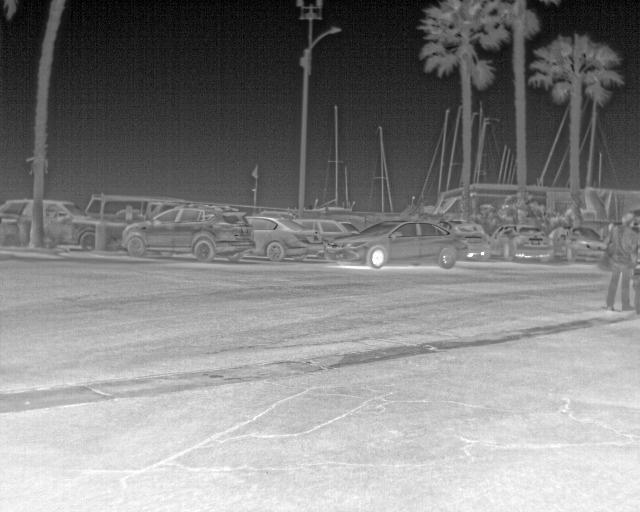bicycle: (120, 203, 258, 259), (323, 217, 465, 267), (243, 214, 321, 260), (42, 196, 98, 248), (486, 226, 549, 263), (550, 227, 601, 266), (81, 193, 147, 221), (1, 197, 34, 247), (297, 218, 348, 246), (458, 222, 488, 260)
empty: (604, 210, 638, 306)
